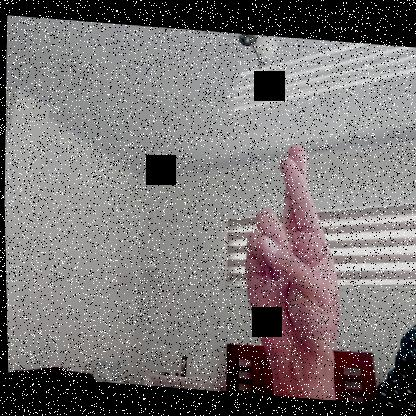R: (237, 136, 344, 369)
